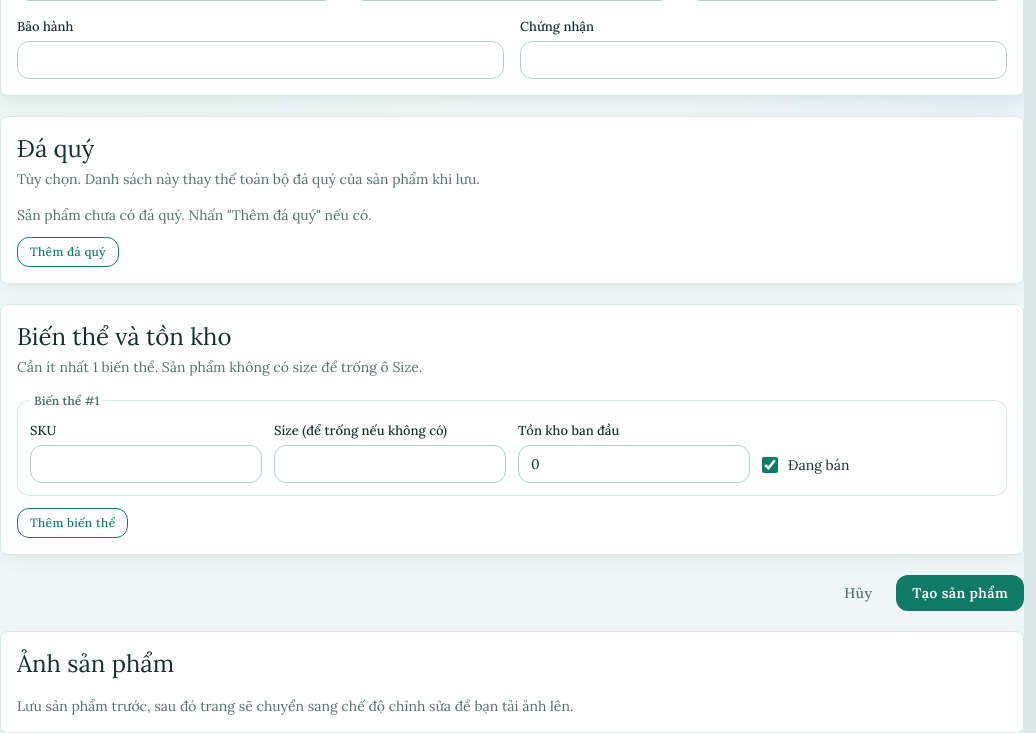
ProductForm (tạo mới) › không gọi API khi dữ liệu sai và hiện lỗi đúng ô
The image size is (1036, 733).
(page scrolled)
Click the button "Tạo sản phẩm": {"x": 960, "y": 593} [896,575,1024,611]
(page scrolled)
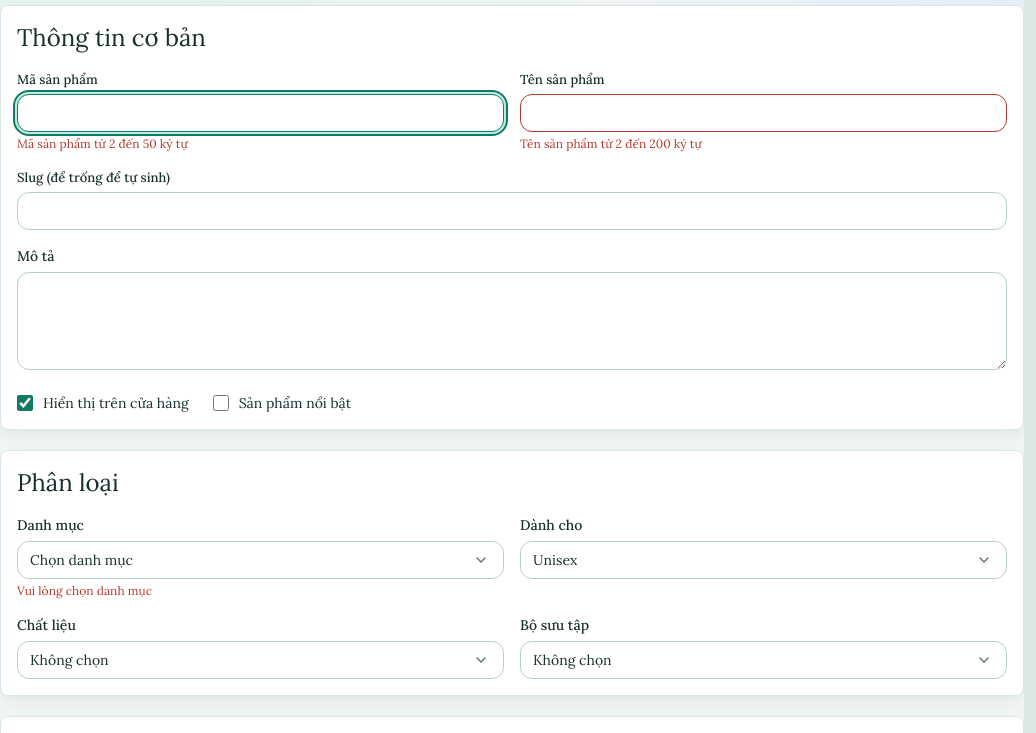
Check: the text "Mã sản phẩm từ 2 đến 50 ký tự" is shown, box [17,136,188,151]
Check: the text "Vui lòng chọn danh mục" is shown, box [17,582,152,598]
